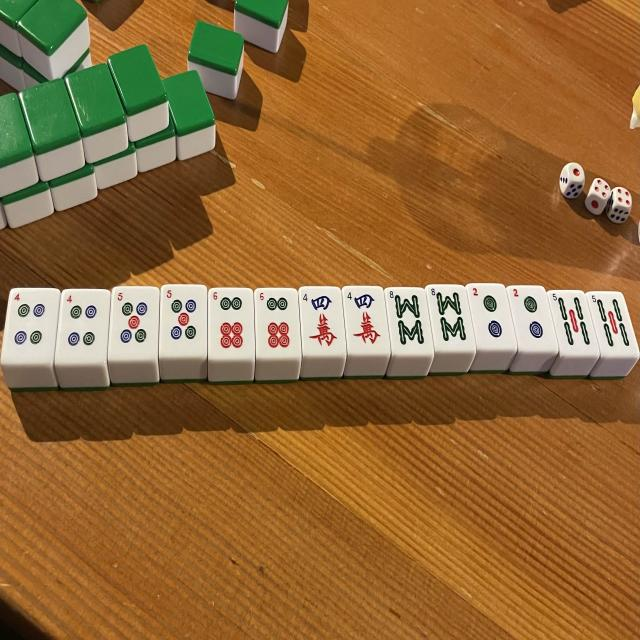m4: (300, 288, 346, 355), (344, 289, 389, 354)
s5: (548, 291, 600, 357), (588, 292, 640, 358)
s8: (427, 286, 476, 352), (388, 289, 435, 355)
t2: (507, 286, 559, 354), (468, 284, 518, 351)
t4: (2, 287, 60, 363), (54, 288, 110, 362)
t5: (110, 286, 161, 358), (159, 284, 207, 354)
t6: (210, 289, 256, 357), (256, 289, 300, 356)
